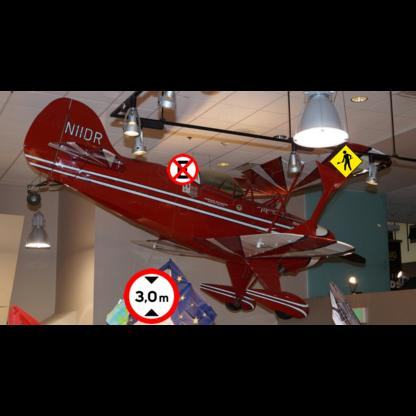A-24: (329, 144, 363, 179)
R-15: (124, 268, 179, 324)
R-6c: (167, 154, 199, 186)
